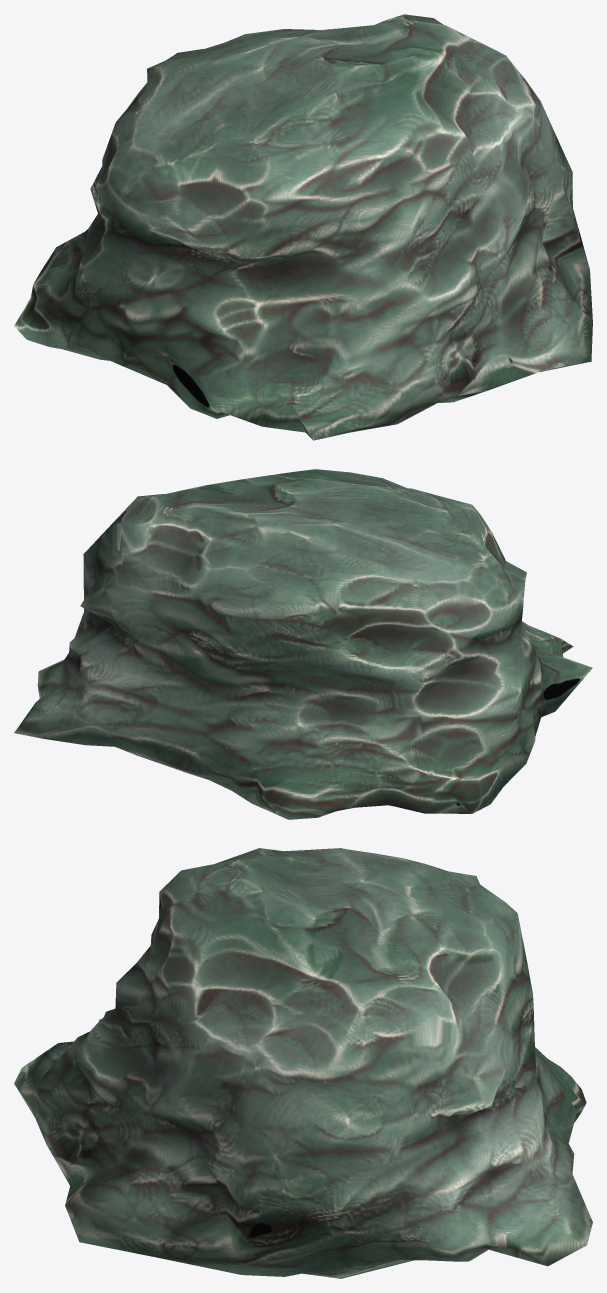
Rendered from rock.glb.
3 renders of one model, top to bottom at view 1: azimuth 30°, elevation 25°; view 2: azimuth 150°, elevation 25°; view 3: azimuth 270°, elevation 25°, orthographic. The views are drawn at different scales.
Visible parts, largest first — view 1: node_IcyGroundTileA2_low_-1791646_1; view 2: node_IcyGroundTileA2_low_-1791646_1; view 3: node_IcyGroundTileA2_low_-1791646_1.
Boxes of the visible parts, left/top/right/bottom form: node_IcyGroundTileA2_low_-1791646_1: left=14, top=14, right=592, bottom=440; node_IcyGroundTileA2_low_-1791646_1: left=14, top=469, right=592, bottom=819; node_IcyGroundTileA2_low_-1791646_1: left=14, top=848, right=592, bottom=1278.
Size of the model in its own units: 4.43 by 2.45 by 4.21.
Materials: 1 (1 with a texture image).
